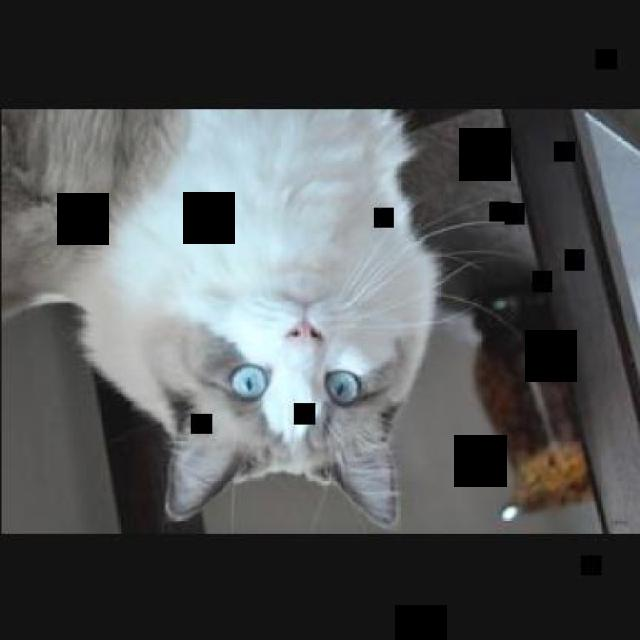unauthorized: (0, 106, 549, 528)
